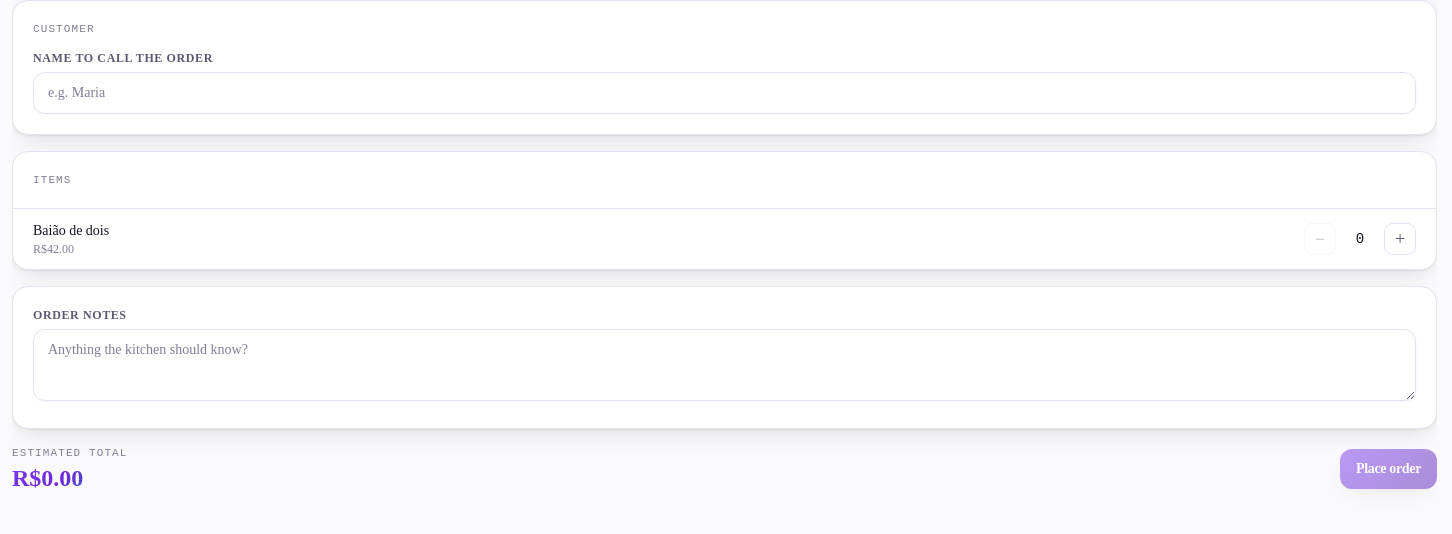
Test: CreateOrderForm — TOTEM › blocks submit and shows a name error when the name is blank
Click the button named "Increase quantity" at [1400, 239], box x1=1384 y1=223 x2=1416 y2=255
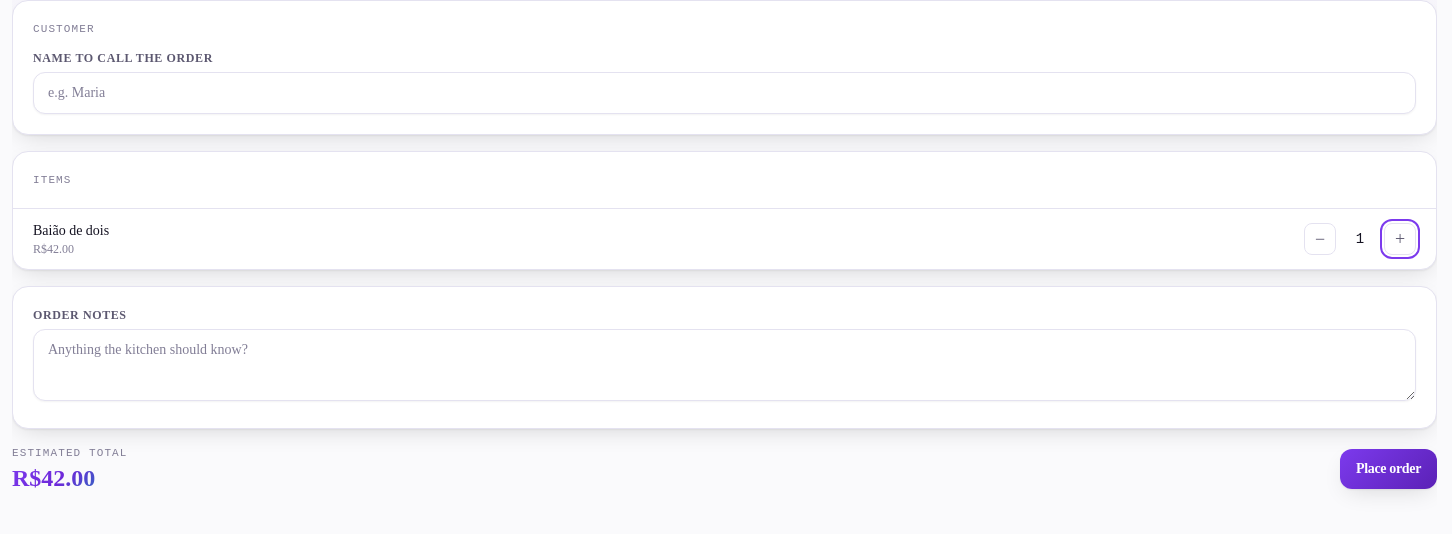
Click the button "Place order" at [1388, 469], box x1=1340 y1=449 x2=1437 y2=489
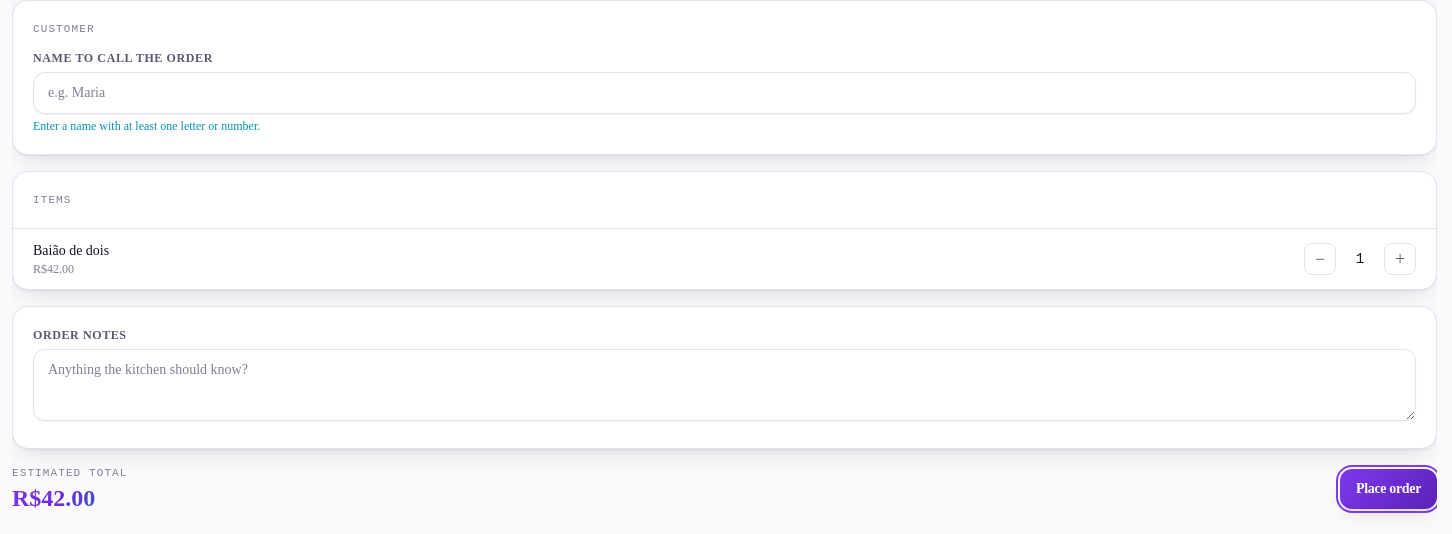
Check: the text "Enter a name with at least one letter or number." is shown, box x1=33 y1=118 x2=260 y2=132
